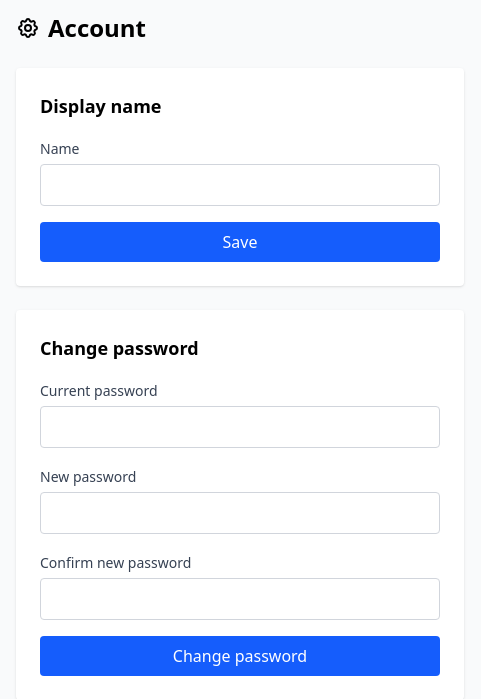
Test: Account › shows a success message and clears the form after a successful change
Type "current" into the password field labelled "Current password".
click(240, 427); type("current")  # box [40,406,440,448]
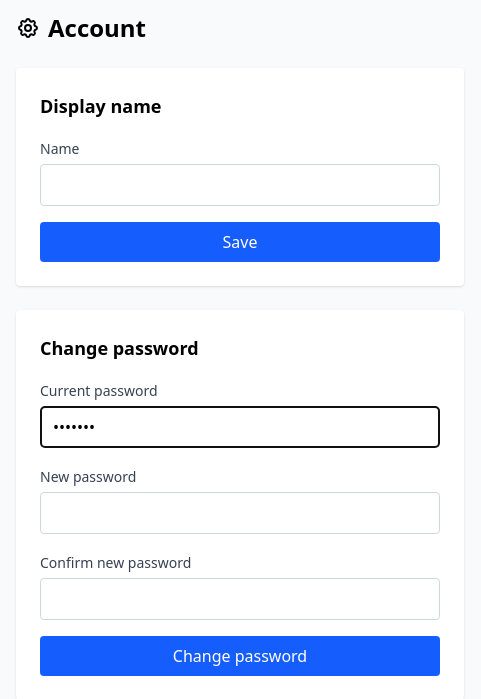
Type "new-password-123" into the password field labelled "New password".
click(240, 513); type("new-password-123")  # box [40,492,440,534]
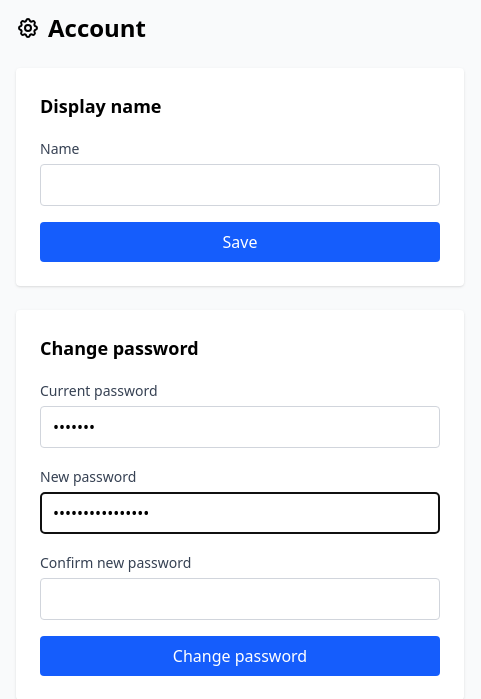
Type "new-password-123" into the password field labelled "Confirm new password".
click(240, 599); type("new-password-123")  # box [40,578,440,620]
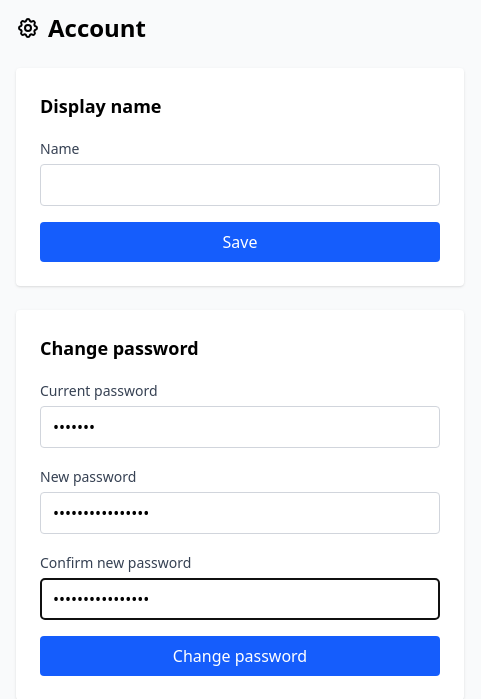
Click the button "Change password".
click(240, 656)  # box [40,636,440,676]
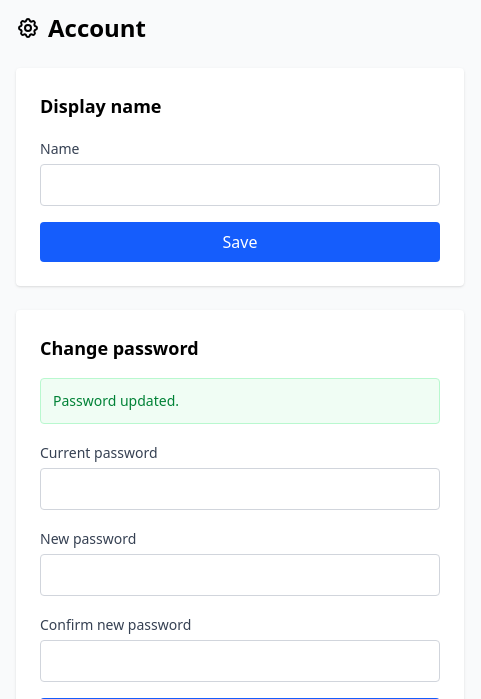
Expected: the text "Password updated." is shown, [40,378,440,424]
Expected: the password field labelled "Current password" is empty, [40,468,440,510]
Expected: the password field labelled "New password" is empty, [40,554,440,596]
